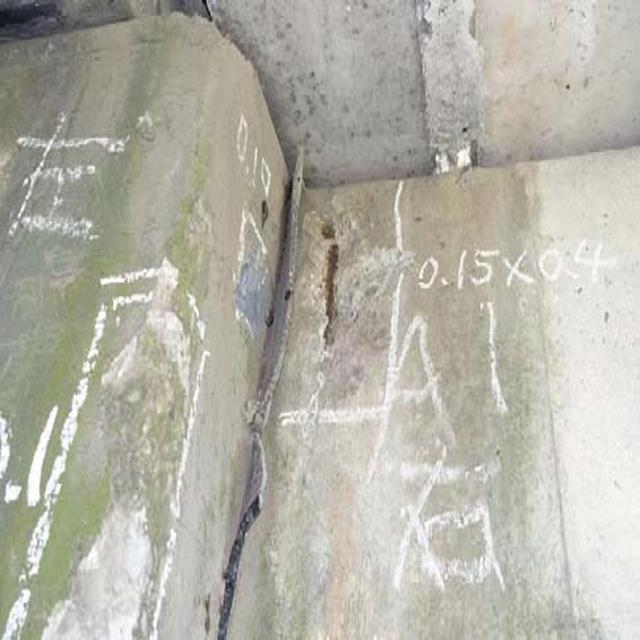spalling: (62, 276, 185, 636), (290, 193, 400, 348)
